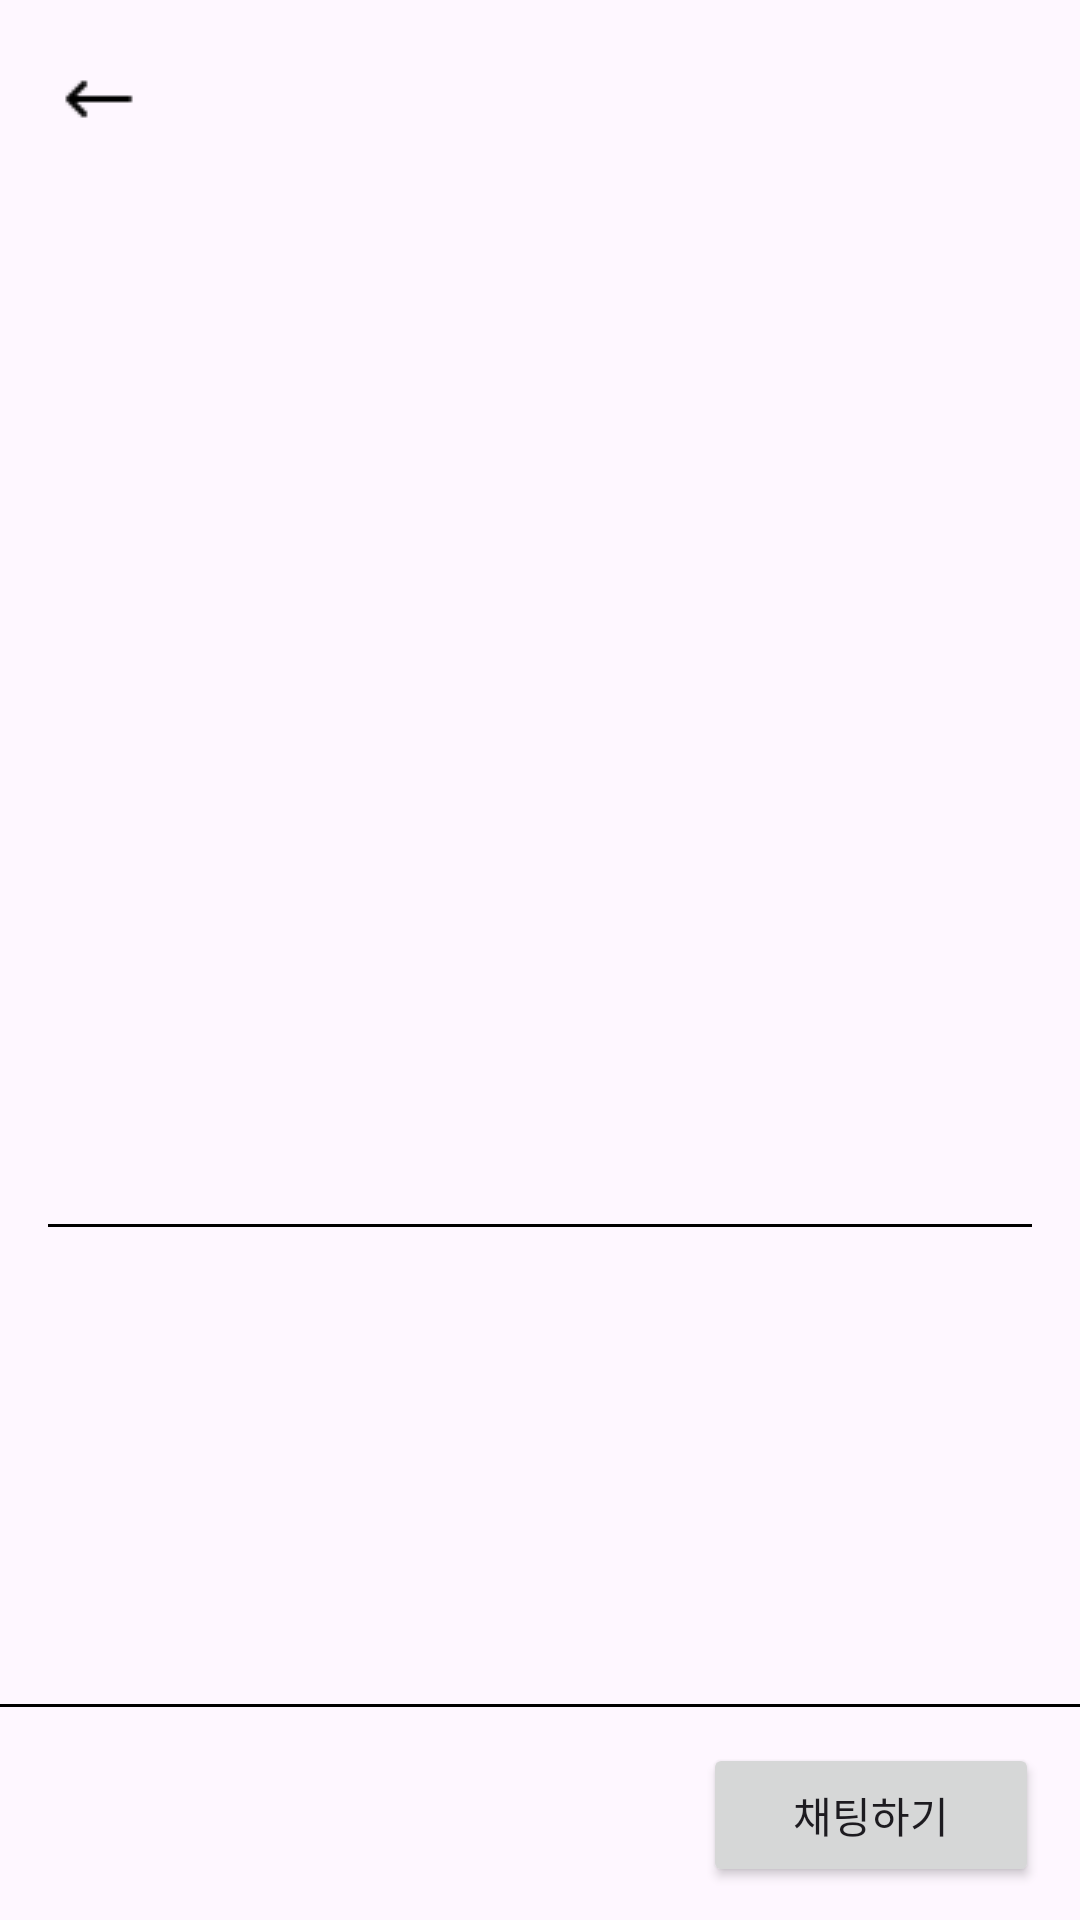

Icons on this 1080*1920 Android screen, each with its box as (x1, y1, x2, y2):
arrow: (65, 80, 133, 118)
